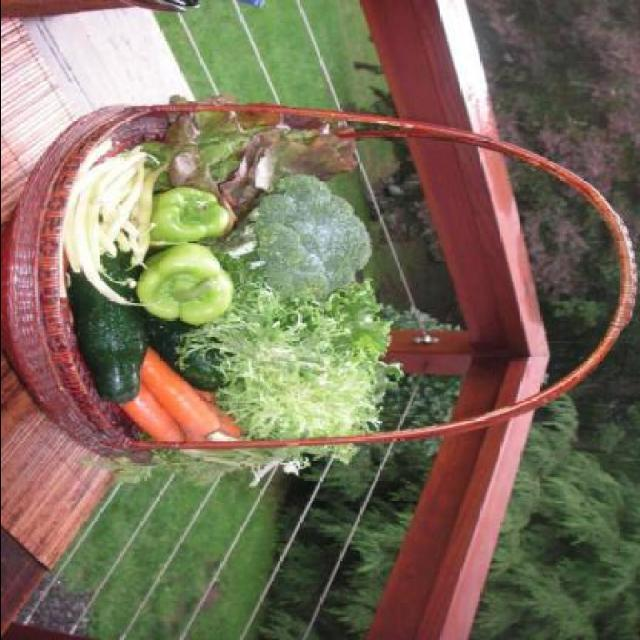Broccoli: (230, 172, 372, 302)
